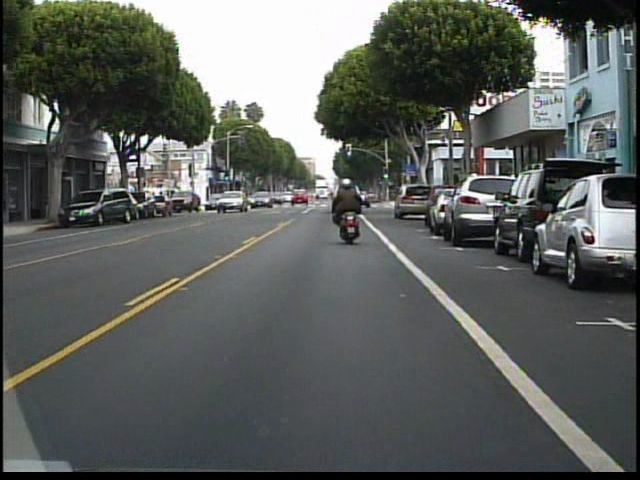person: (329, 173, 368, 242)
